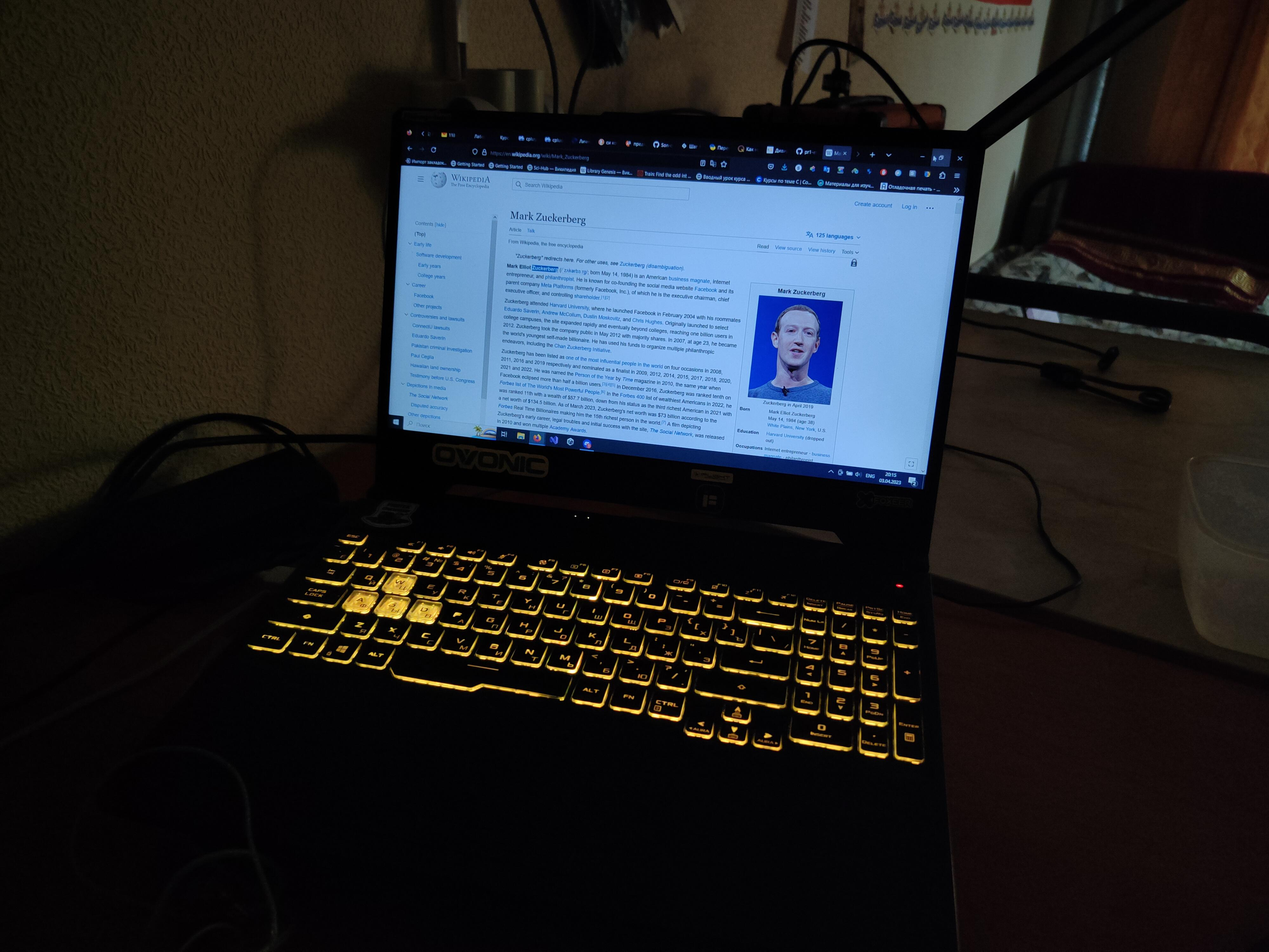monitor: (369, 106, 990, 564), (989, 248, 991, 249)
